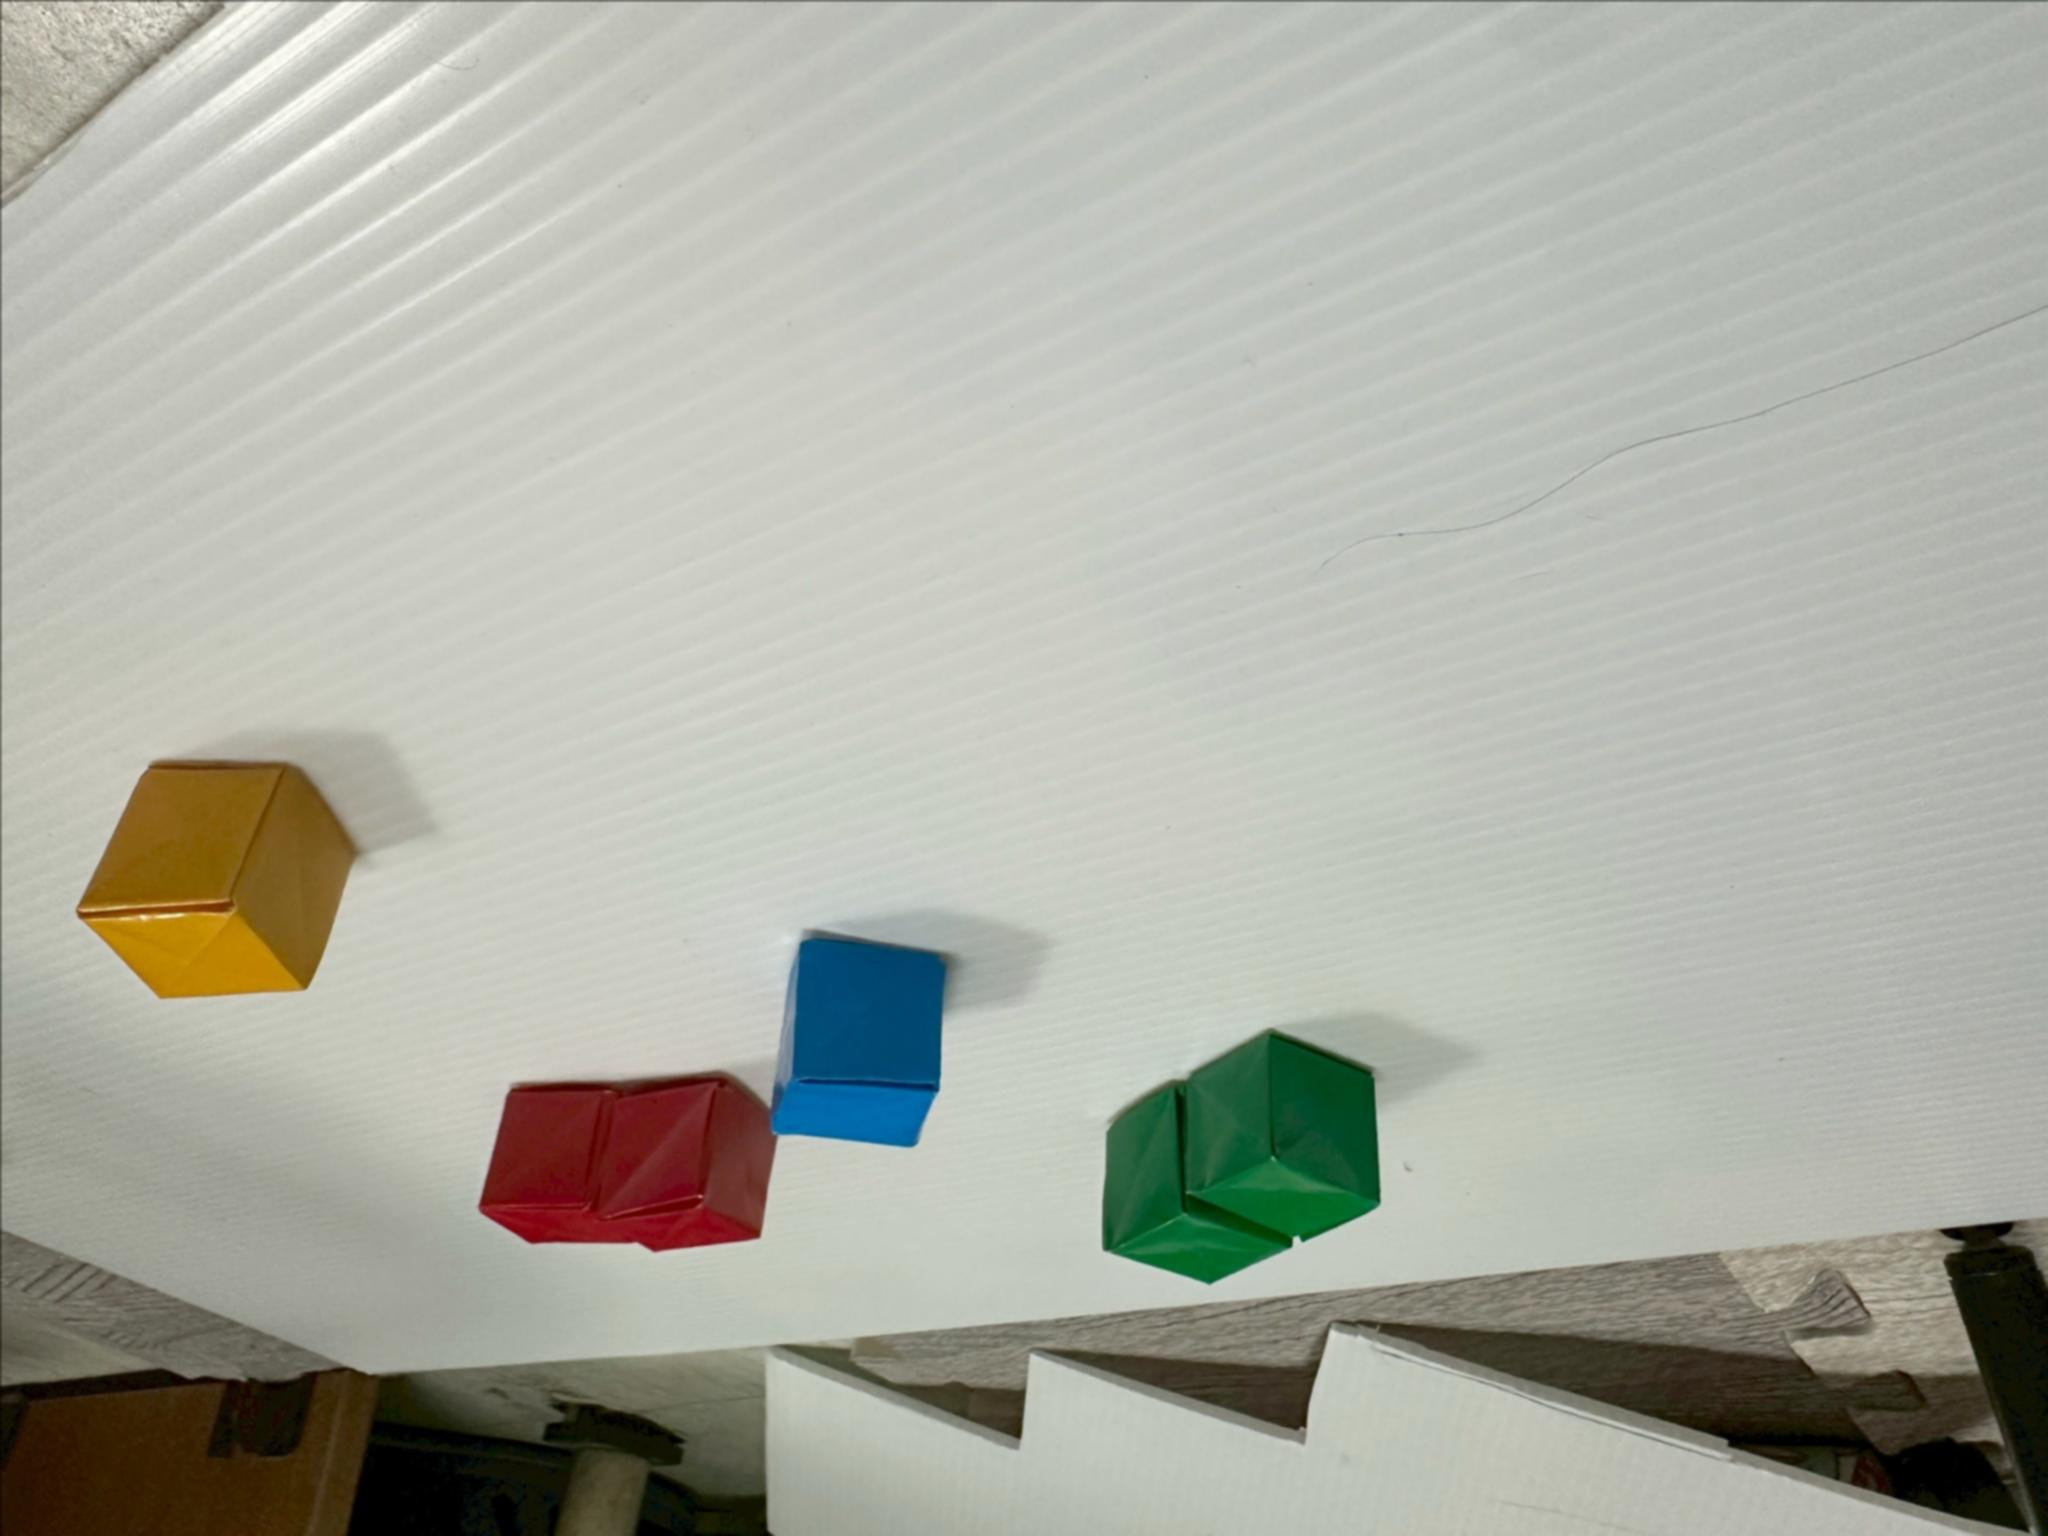base: (77, 763, 353, 995), (1184, 1034, 1379, 1238), (771, 936, 945, 1146), (1101, 1087, 1290, 1281), (593, 1078, 774, 1250), (479, 1084, 639, 1242)
